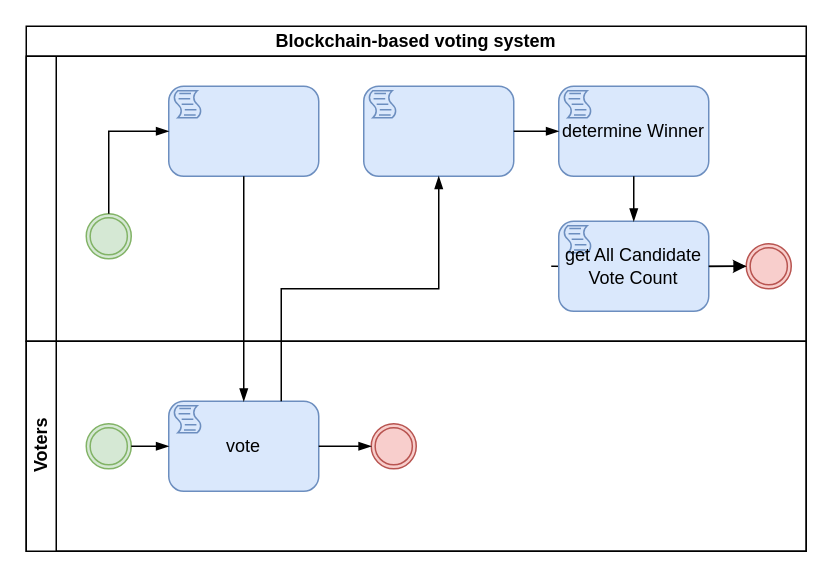
Image size: 833x578. Some labels were removed from this diagram. Here are the shapes that lost their labels. From the top down, the box of each, then its label:
(167, 85, 319, 176): add Candidate
(362, 85, 514, 176): close Voting
(25, 55, 806, 341): Administrator (KPU)
